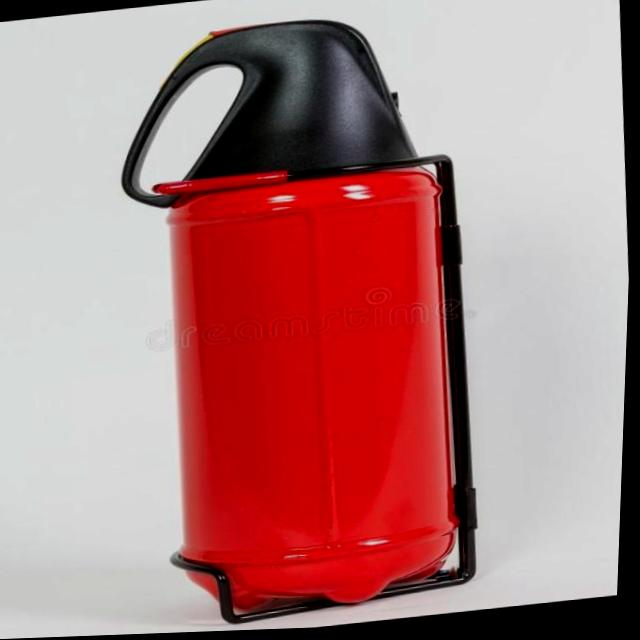FireExtinguisher: (85, 0, 502, 633)
